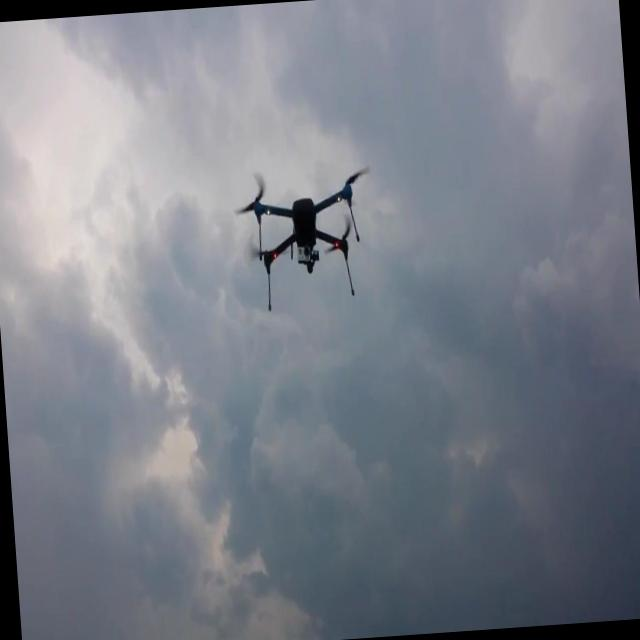drone: (248, 166, 369, 313)
